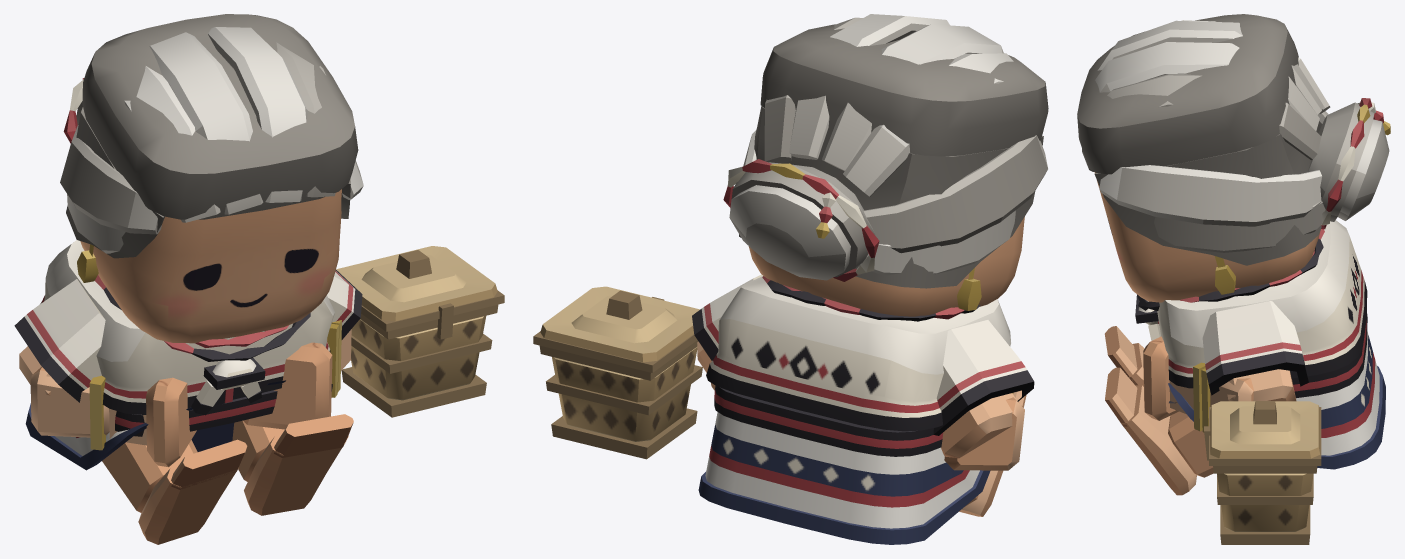
File: audience_v2_elder_woman_sit.glb
3 views of the same model, side by side, from view 1: azimuth 30°, elevation 25°; view 2: azimuth 150°, elevation 25°; view 3: azimuth 270°, elevation 25° (orthographic). The views are drawn at different scales.
Visible parts, largest first — view 1: audience_v2_elder_woman_sit; view 2: audience_v2_elder_woman_sit; view 3: audience_v2_elder_woman_sit.
Part boxes in pixels (<box>): audience_v2_elder_woman_sit: <box>14,14,504,544</box>; audience_v2_elder_woman_sit: <box>533,14,1048,544</box>; audience_v2_elder_woman_sit: <box>1077,14,1390,544</box>.
Size of the model in its own units: 0.6116 by 0.6181 by 0.4104.
Materials: 1 (1 with a texture image).
